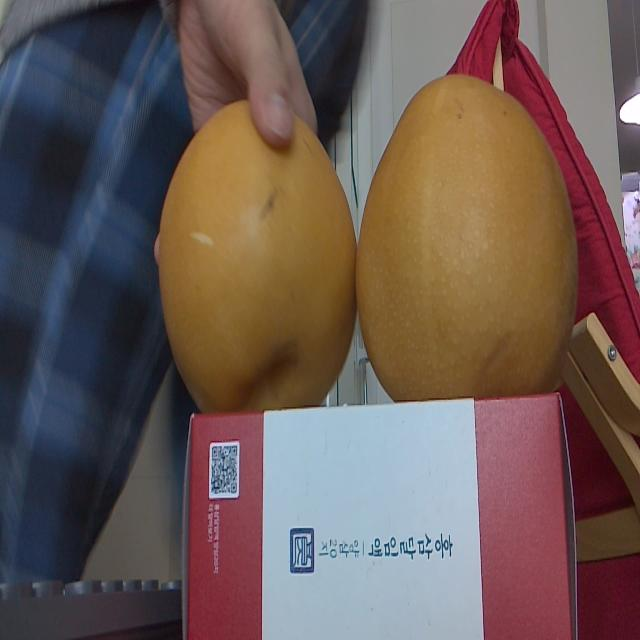pear: (361, 75, 579, 402), (158, 100, 358, 412)
